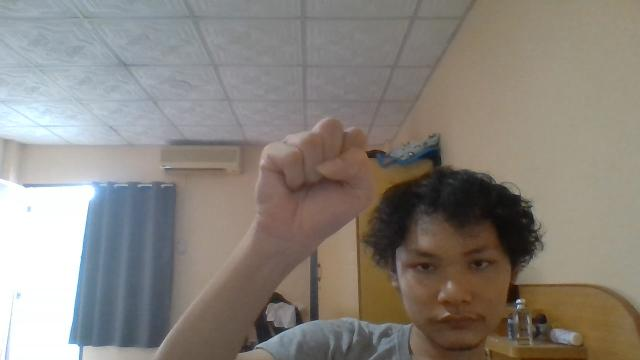forward: (253, 116, 375, 261)
